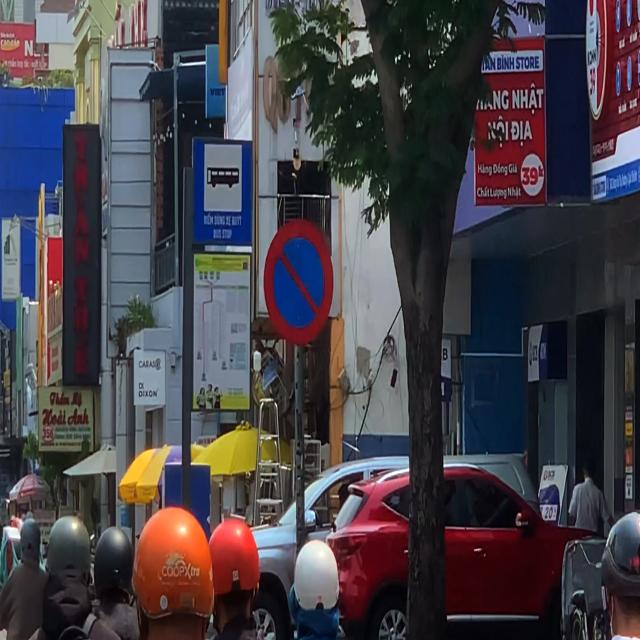Cam do: (263, 219, 334, 347)
